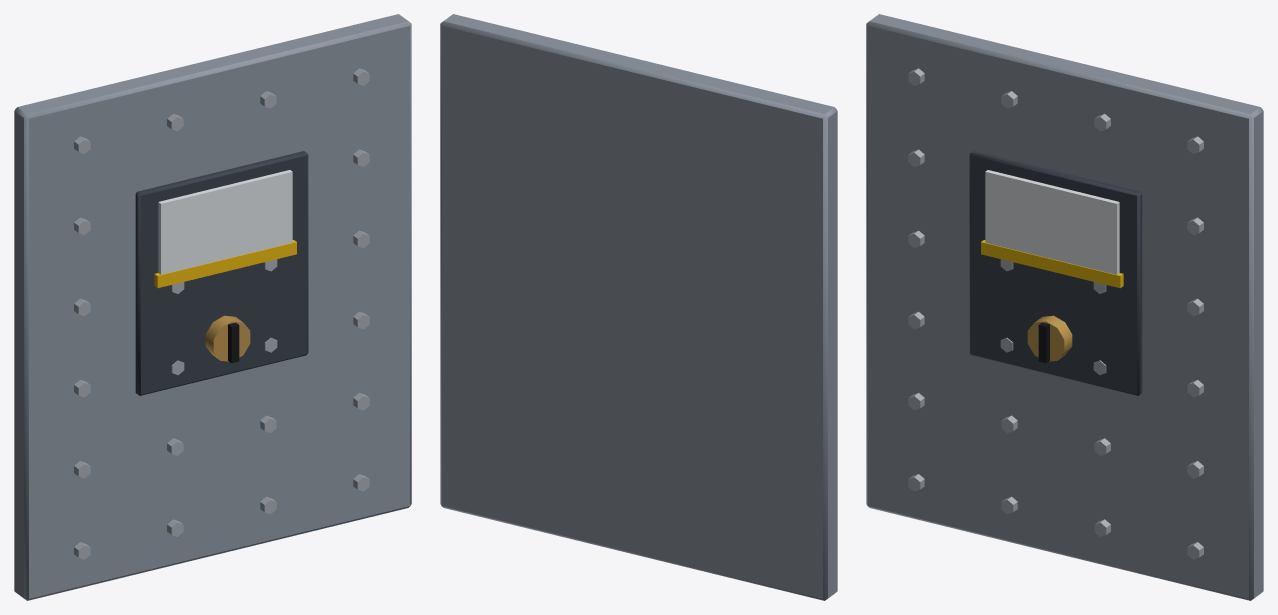
File: wallpanel_service_bolted.glb
The picture shows the model from 3 angles, left to right: view 1: azimuth 30°, elevation 25°; view 2: azimuth 150°, elevation 25°; view 3: azimuth 330°, elevation 25°; orthographic projection.
Visible parts, largest first — view 1: wallpanel_service_bolted; view 2: wallpanel_service_bolted; view 3: wallpanel_service_bolted.
Boxes of the visible parts, x1,y1,x2,y2 form: wallpanel_service_bolted: (14, 14, 411, 600); wallpanel_service_bolted: (440, 14, 837, 600); wallpanel_service_bolted: (866, 14, 1263, 600).
Size of the model in its own units: 1 by 1.2 by 0.13.
